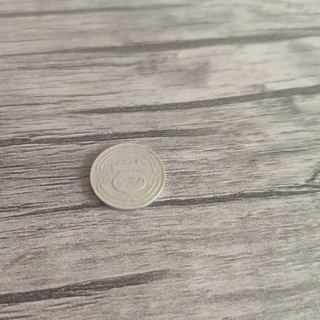10KURUS: (88, 141, 166, 211)
